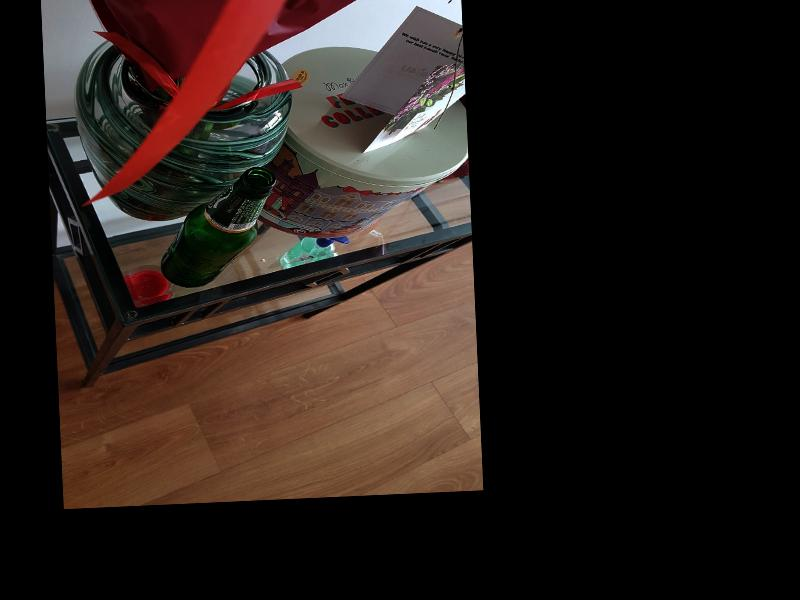Beer: (155, 166, 279, 288)
